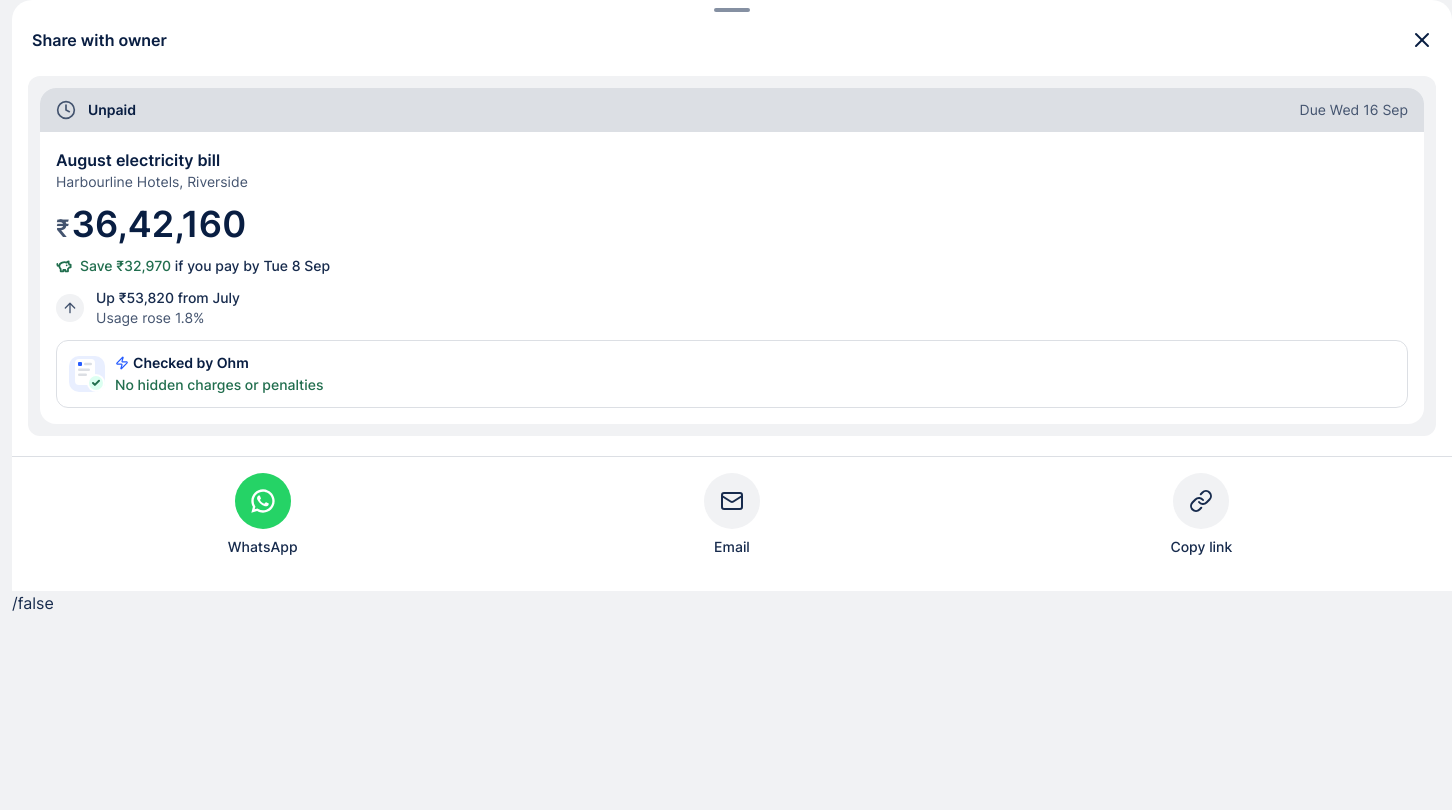
Test: S09 Share with owner › says what WhatsApp and Email would open
Click the button "WhatsApp" at (263, 515), box [28,473,497,557]
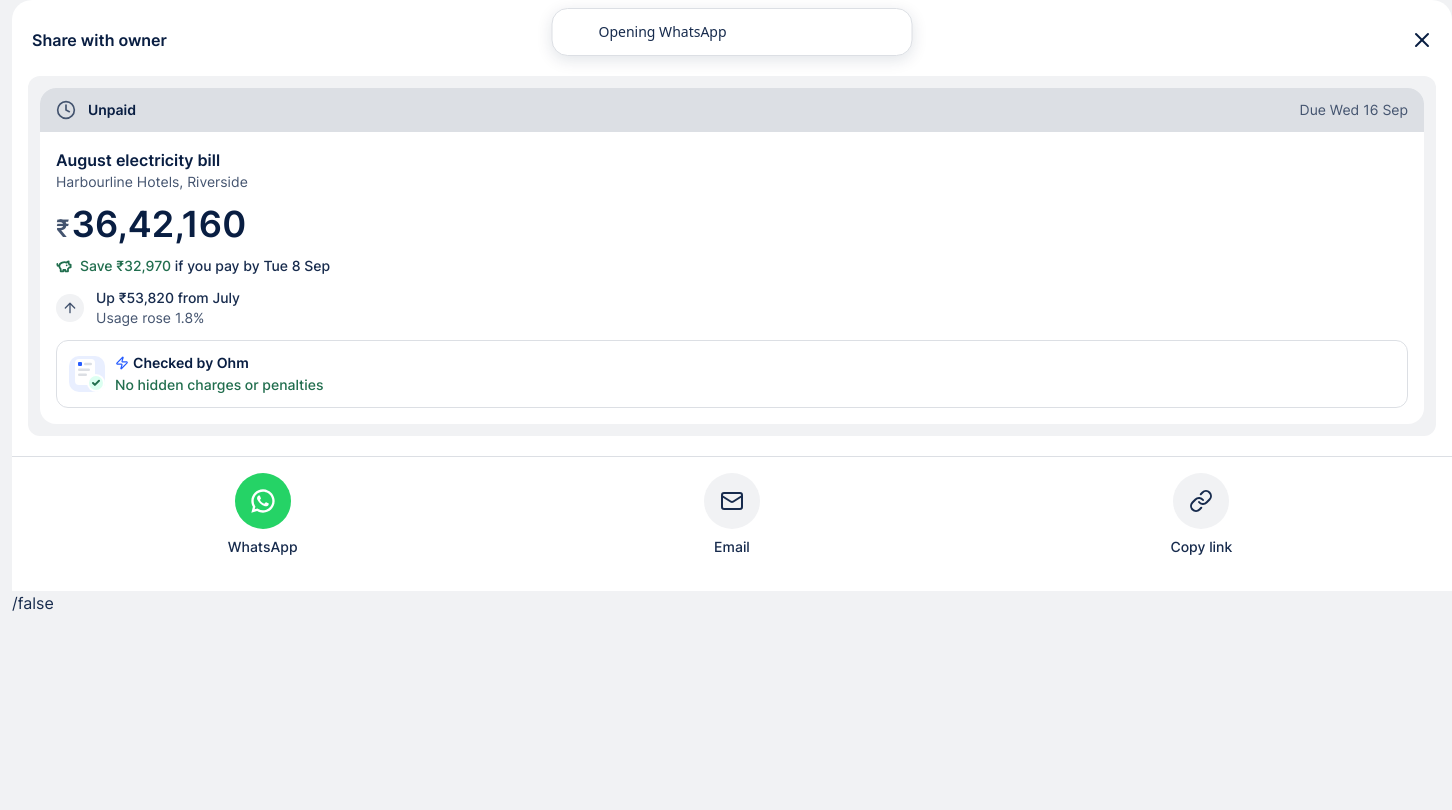
Check: the text "Opening WhatsApp" is shown, box [598,22,727,42]
Click the button "Email" at (732, 515), box [497,473,967,557]
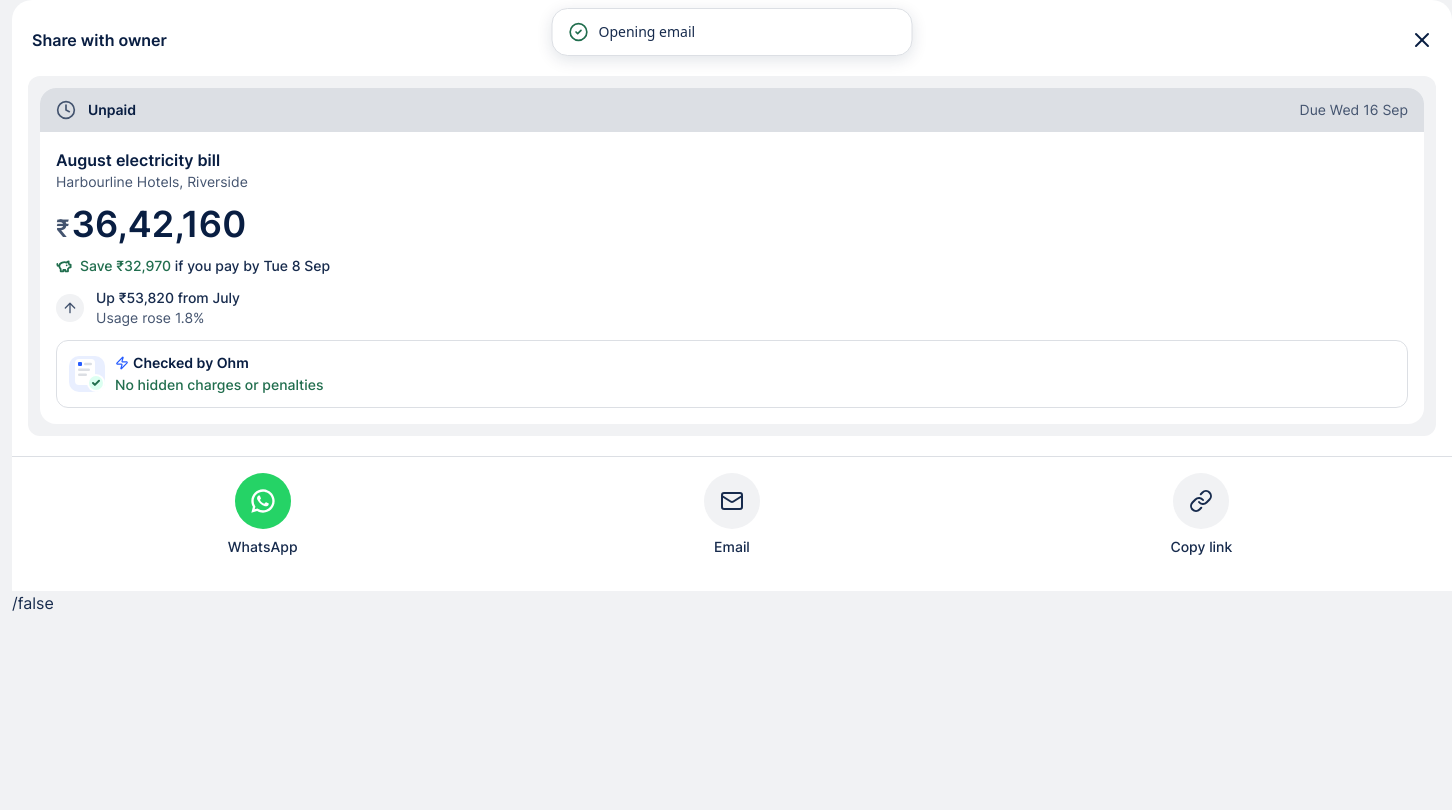
Check: the text "Opening email" is shown, box [598,22,695,42]
